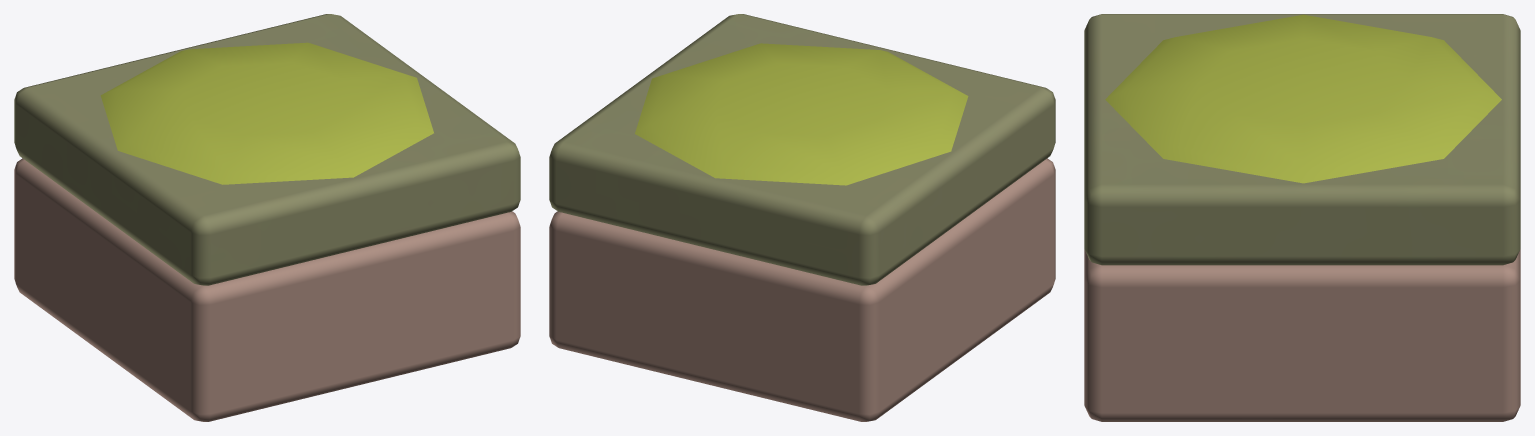
The model's file is cube_with_swamp.04.glb.
3 views of the same model, side by side, from view 1: azimuth 30°, elevation 25°; view 2: azimuth 150°, elevation 25°; view 3: azimuth 270°, elevation 25° (orthographic). The views are drawn at different scales.
Parts seen in each view (by area): view 1: Cube.249; view 2: Cube.249; view 3: Cube.249.
Part boxes in pixels (bbox=[...]): Cube.249: bbox=[14, 14, 520, 421]; Cube.249: bbox=[549, 14, 1055, 421]; Cube.249: bbox=[1084, 14, 1520, 421].
Bounding box in the file's own units: 1 × 0.6513 × 1.
Materials: 1 (1 with a texture image).
